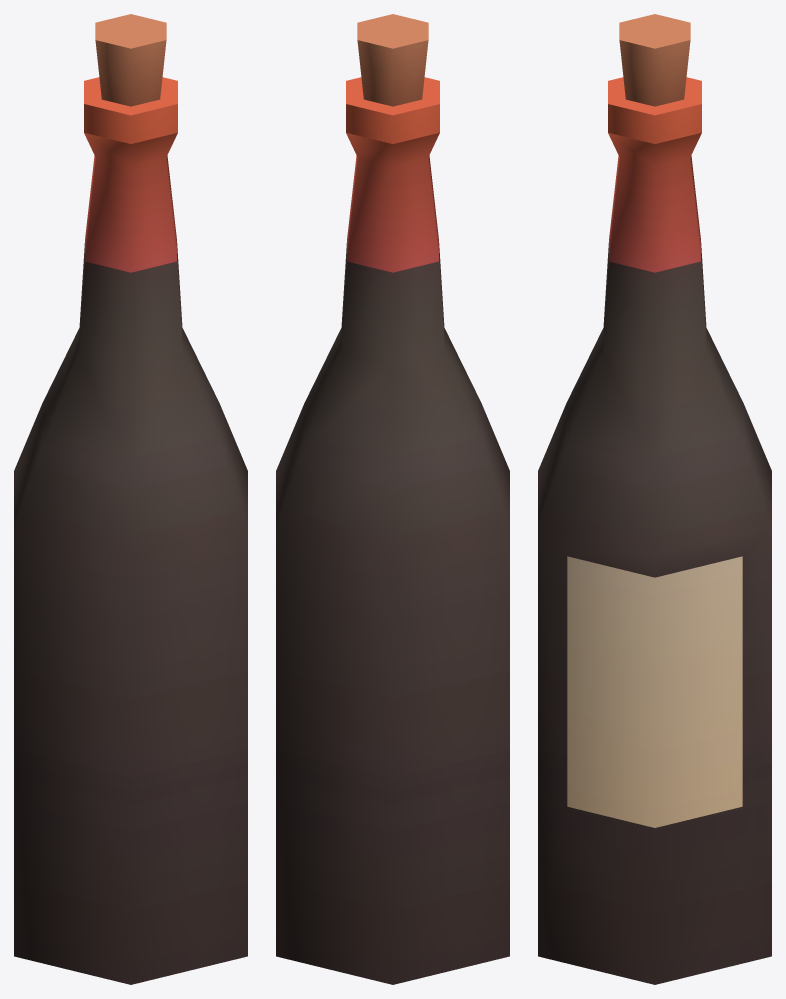
File: wine-red.glb
The picture shows the model from 3 angles, left to right: view 1: azimuth 30°, elevation 25°; view 2: azimuth 150°, elevation 25°; view 3: azimuth 270°, elevation 25°; orthographic projection.
Parts seen in each view (by area): view 1: wine-red; view 2: wine-red; view 3: wine-red.
Boxes of the visible parts, x1,y1,x2,y2 form: wine-red: [14, 14, 247, 984]; wine-red: [276, 14, 509, 984]; wine-red: [538, 14, 771, 984].
Bounding box in the file's own units: 0.1908 × 0.6989 × 0.1653.
1 material, 1 textured.
